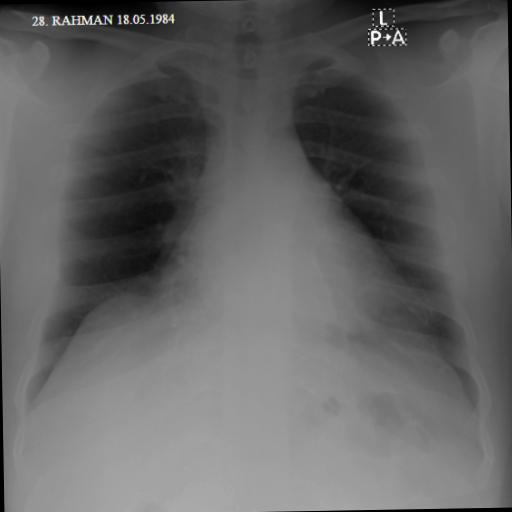kardiomegali: (16, 26, 502, 441)
